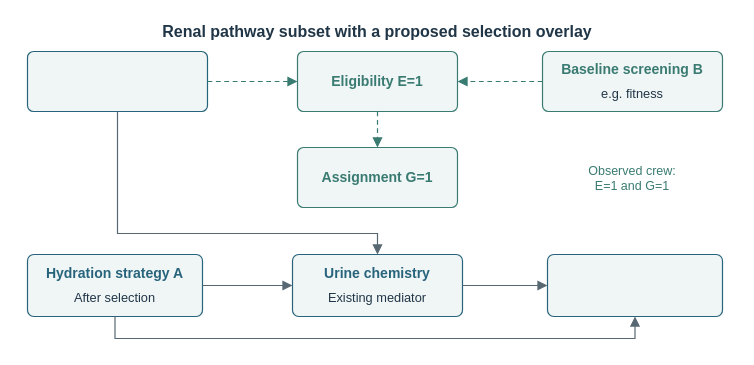
Some shapes in this 754 by 365 pixel diagram are drawn without their labels. Each missing label, with the centre of its shape:
Nephrolithiasis Y Outcome: the point at 634,285
Stone history H Pre-flight information: the point at 117,81
